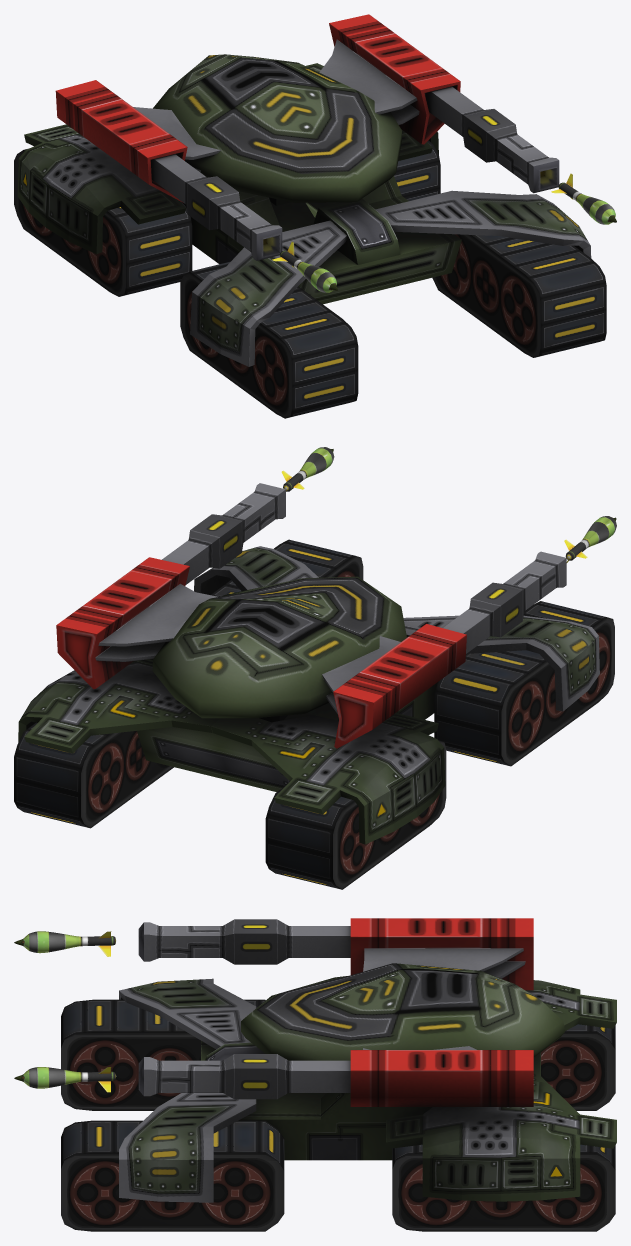
File: tank3.FBX
3 renders of one model, top to bottom at view 1: azimuth 30°, elevation 25°; view 2: azimuth 150°, elevation 25°; view 3: azimuth 270°, elevation 25°, orthographic.
Parts seen in each view (by area): view 1: SciFi Ultra Tank 3, SciFi Ultra Tank 3_turret, SciFi Ultra Tank 3_turret002, SciFi Ultra Tank 3_turret001, SciFi Ultra Tank 3_bullet (×2); view 2: SciFi Ultra Tank 3, SciFi Ultra Tank 3_turret, SciFi Ultra Tank 3_turret001, SciFi Ultra Tank 3_turret002, SciFi Ultra Tank 3_bullet (×2); view 3: SciFi Ultra Tank 3, SciFi Ultra Tank 3_turret, SciFi Ultra Tank 3_turret002, SciFi Ultra Tank 3_turret001, SciFi Ultra Tank 3_bullet (×2).
Part boxes in pixels (<box>): SciFi Ultra Tank 3: <box>14,63,606,418</box>; SciFi Ultra Tank 3_turret: <box>55,14,460,202</box>; SciFi Ultra Tank 3_turret002: <box>425,86,559,193</box>; SciFi Ultra Tank 3_turret001: <box>150,154,282,260</box>; SciFi Ultra Tank 3_bullet (×2): <box>272,173,616,292</box>; SciFi Ultra Tank 3: <box>14,539,614,889</box>; SciFi Ultra Tank 3_turret: <box>56,557,466,748</box>; SciFi Ultra Tank 3_turret001: <box>443,551,566,653</box>; SciFi Ultra Tank 3_turret002: <box>162,483,285,584</box>; SciFi Ultra Tank 3_bullet (×2): <box>281,447,616,562</box>; SciFi Ultra Tank 3: <box>61,978,616,1231</box>; SciFi Ultra Tank 3_turret: <box>241,918,564,1106</box>; SciFi Ultra Tank 3_turret002: <box>138,1054,350,1099</box>; SciFi Ultra Tank 3_turret001: <box>138,919,350,964</box>; SciFi Ultra Tank 3_bullet (×2): <box>14,931,116,1092</box>.
Bounding box in the file's own units: 0.4201 × 0.1944 × 0.6019.
